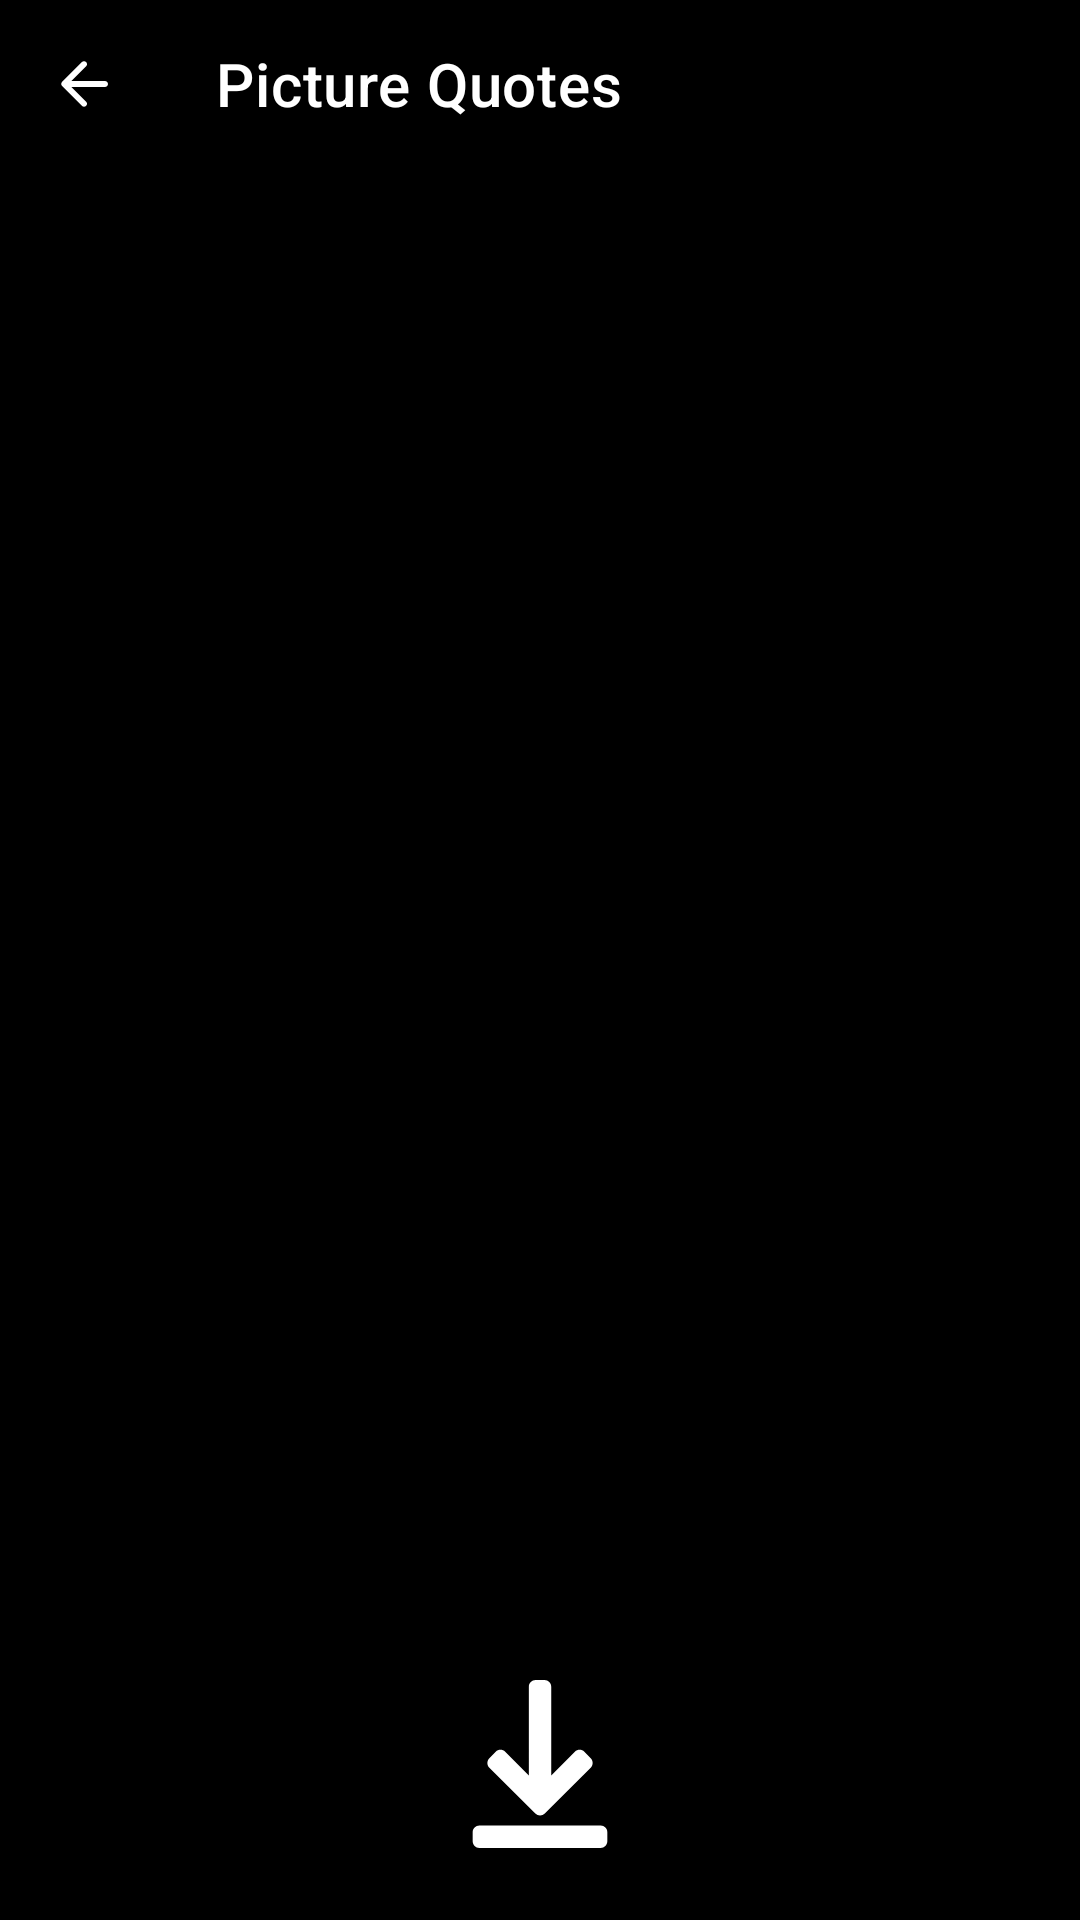

Locate icon controls on the screen. Image size 1080px×1920px, boxes as (x1, y1, x2, y2).
download: (472, 1680, 608, 1848)
